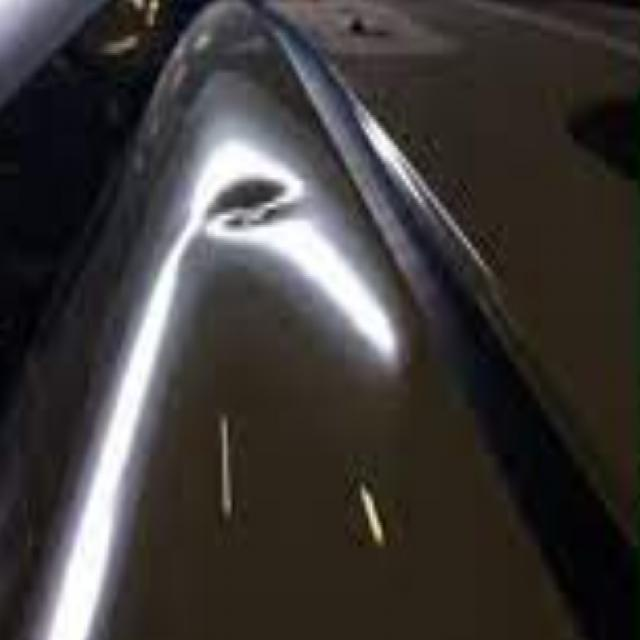dents: (196, 111, 305, 280)
